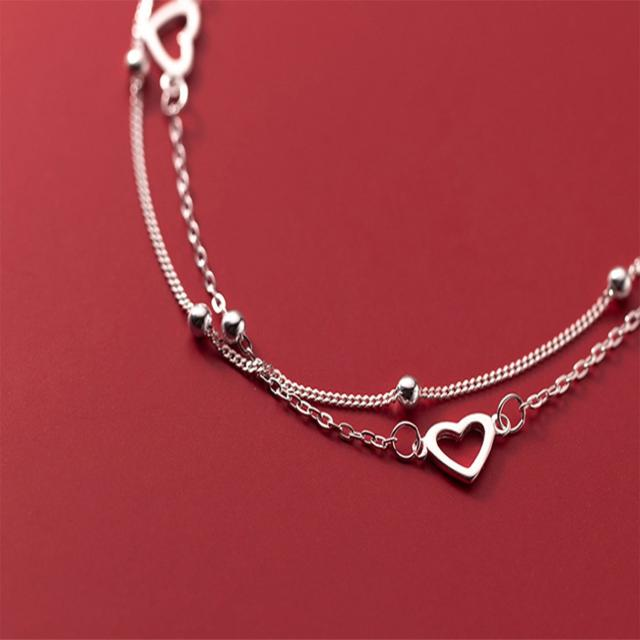bracelet: (86, 0, 640, 498)
